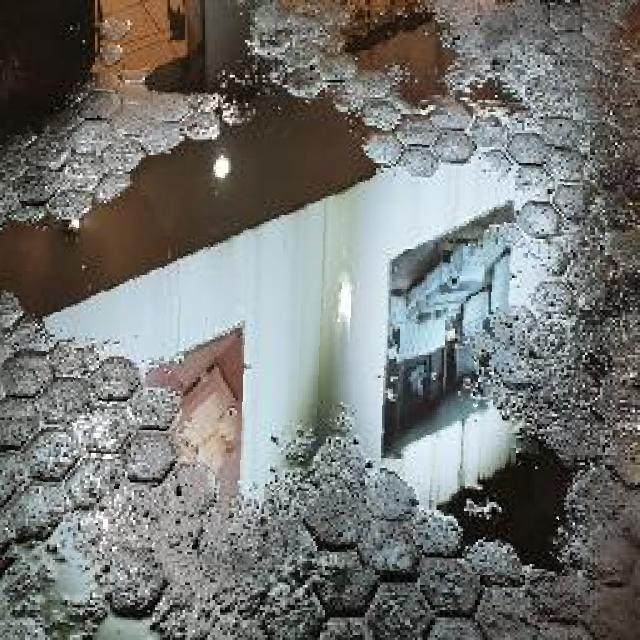puddle: (1, 92, 583, 572)
